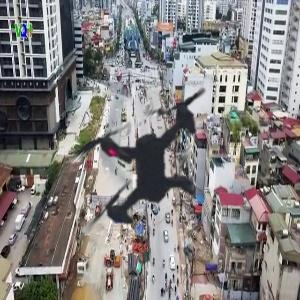drone: (14, 29, 278, 293)
